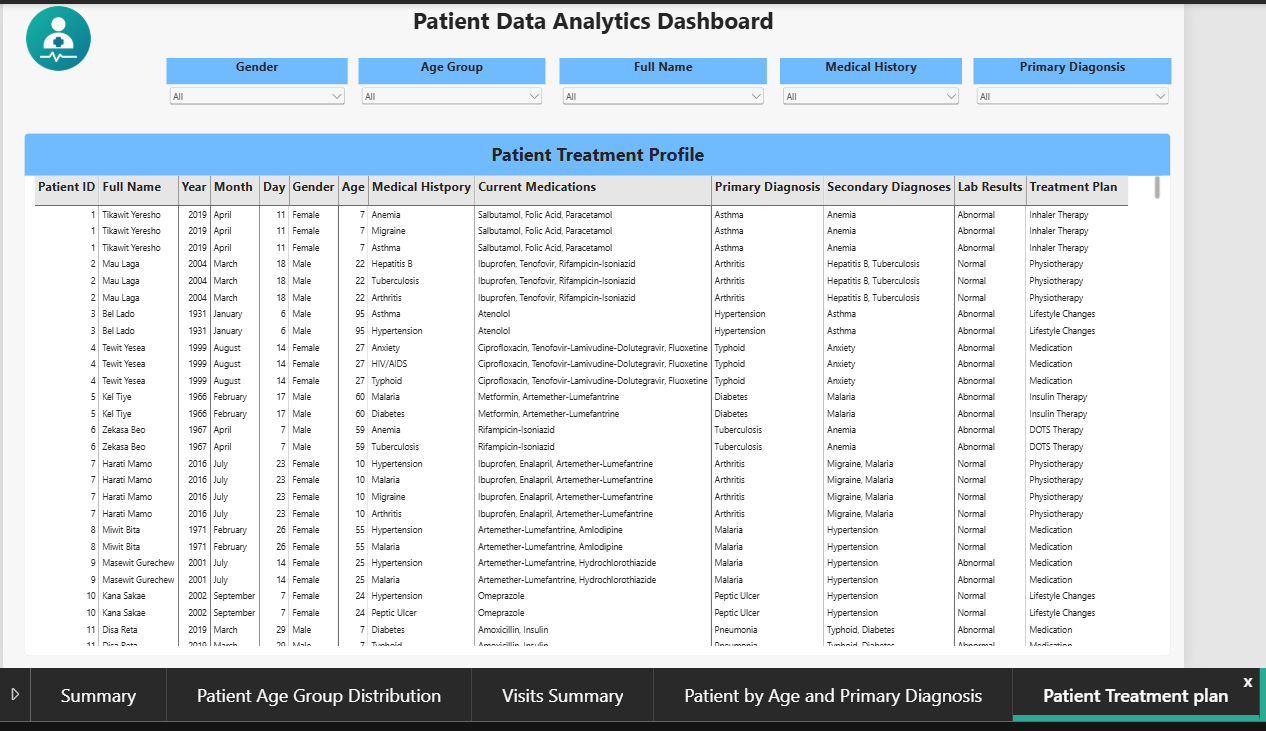

What the dashboard file says about the page in this screenshot:
{"tool":"powerbi","page":{"name":"Patient Treatment plan","canvas":[1920,1080],"ordinal":4},"visuals":[{"type":"tableEx","title":"Patient Treatment Profile","fields":{"Values":["Patient Data.Patient ID","Patient Data.Full Name","Patient Data.Date of Birth.Variation.Date Hierarchy.Year","Patient Data.Date of Birth.Variation.Date Hierarchy.Month","Patient Data.Date of Birth.Variation.Date Hierarchy.Day","Patient Data.Gender","Patient Data.Age","Patient Data.Medical Histpory","Patient Data.Current Medications","Patient Data.Primary Diagnosis","Patient Data.Secondary Diagnoses","Patient Data.Lab Results"]},"box":[33.4,209.6,1865.3,850.6],"z":0},{"type":"textbox","box":[0,0,1920.1,87.8],"z":1000},{"type":"slicer","title":"Medical History","fields":{"Values":["Patient Data.Medical Histpory"]},"box":[1263.8,87.8,296.2,122.6],"z":2000},{"type":"slicer","title":"Full Name","fields":{"Values":["Patient Data.Full Name"]},"box":[905.2,87.8,337.2,121.5],"z":4000},{"type":"slicer","title":"Age Group","fields":{"Values":["Age Group Sorting.Age  Group"]},"box":[578.2,87.8,303.8,121.5],"z":5000},{"type":"slicer","title":"Primary Diagonsis","fields":{"Values":["Patient Data.Primary Diagnosis"]},"box":[1578.6,87.8,322,121.5],"z":6000},{"type":"slicer","title":"Gender","fields":{"Values":["Patient Data.Gender"]},"box":[265.9,87.8,294.7,121.5],"z":7000},{"type":"image","box":[34.2,0,112.2,112.2],"z":7001}]}

Visuals, with their boxes on the page's 1920x1080 design canvas (x1, y1, x2, y2). These are canvas units, not pixel positions in the 1266x731 screenshot, which may show the page scaled, cropped or inside an application window:
"Patient Treatment Profile" tableEx: crop(33, 210, 1899, 1060)
textbox: crop(0, 0, 1920, 88)
"Medical History" slicer: crop(1264, 88, 1560, 210)
"Full Name" slicer: crop(905, 88, 1242, 209)
"Age Group" slicer: crop(578, 88, 882, 209)
"Primary Diagonsis" slicer: crop(1579, 88, 1901, 209)
"Gender" slicer: crop(266, 88, 561, 209)
image: crop(34, 0, 146, 112)
